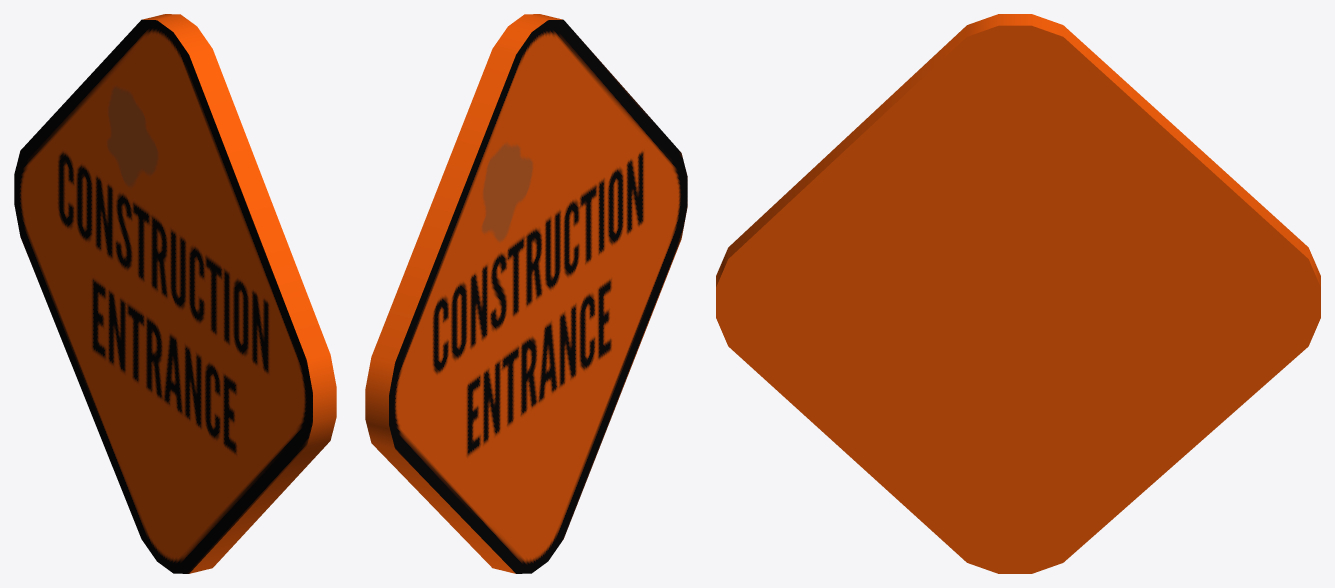
Rendered from Sign_20.glb.
3 views of the same model, side by side, from view 1: azimuth 30°, elevation 25°; view 2: azimuth 150°, elevation 25°; view 3: azimuth 270°, elevation 25° (orthographic).
Visible parts, largest first — view 1: Sign_20; view 2: Sign_20; view 3: Sign_20.
Boxes of the visible parts, x1,y1,x2,y2 form: Sign_20: (14,14,336,573); Sign_20: (365,14,687,573); Sign_20: (716,14,1320,573).
Bounding box in the file's own units: 0.0361 × 0.7882 × 0.7882.
1 material, 1 textured.
